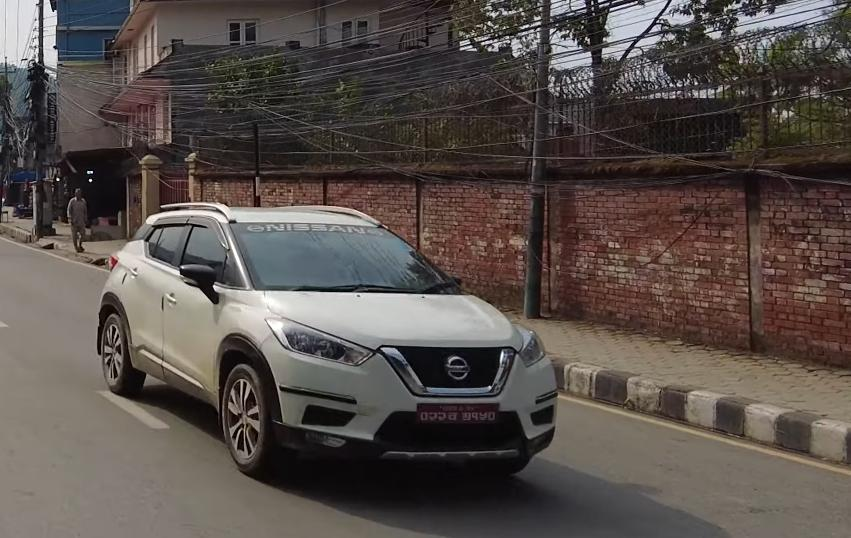car: (80, 201, 570, 476)
